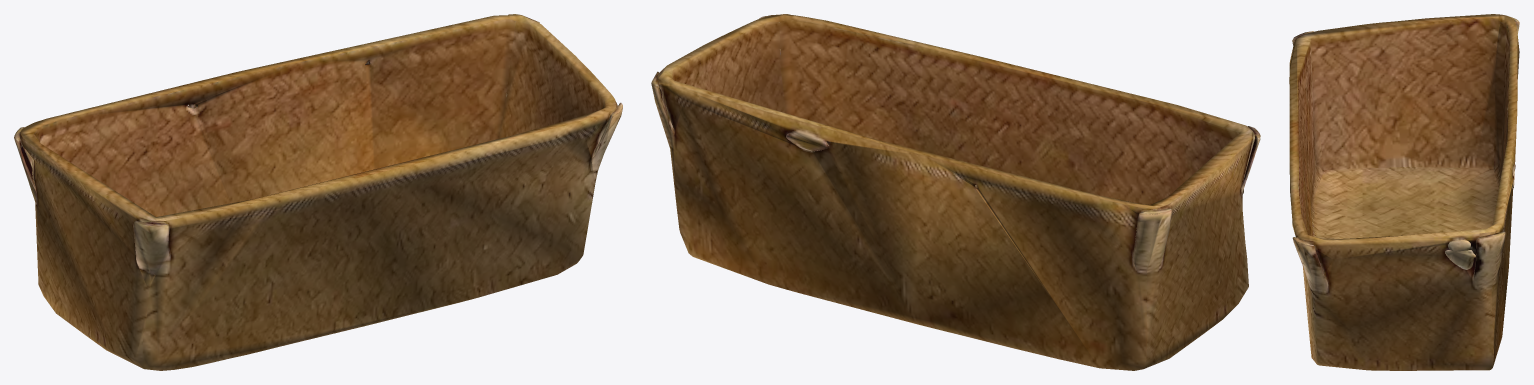
The model's file is object-basket.glb.
The picture shows the model from 3 angles, left to right: view 1: azimuth 30°, elevation 25°; view 2: azimuth 150°, elevation 25°; view 3: azimuth 270°, elevation 25°; orthographic projection. The views are drawn at different scales.
Parts seen in each view (by area): view 1: mesh; view 2: mesh; view 3: mesh.
Part boxes in pixels (x1,y1,x2,y2): mesh: (14,14,622,370); mesh: (651,14,1260,370); mesh: (1289,14,1519,370).
Bounding box in the file's own units: 1.99 × 0.6648 × 0.8568.
1 material, 1 textured.
